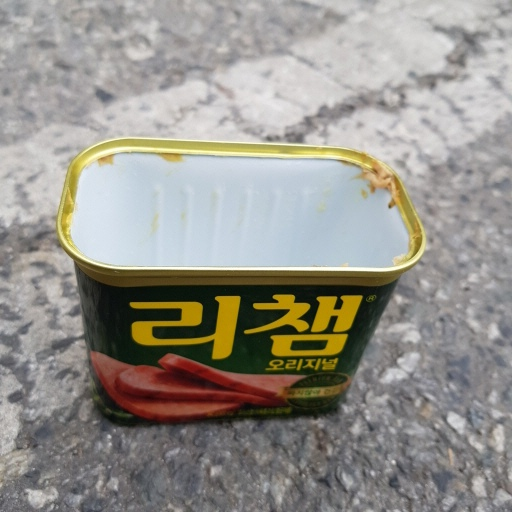Metal_2: (52, 130, 428, 430)
